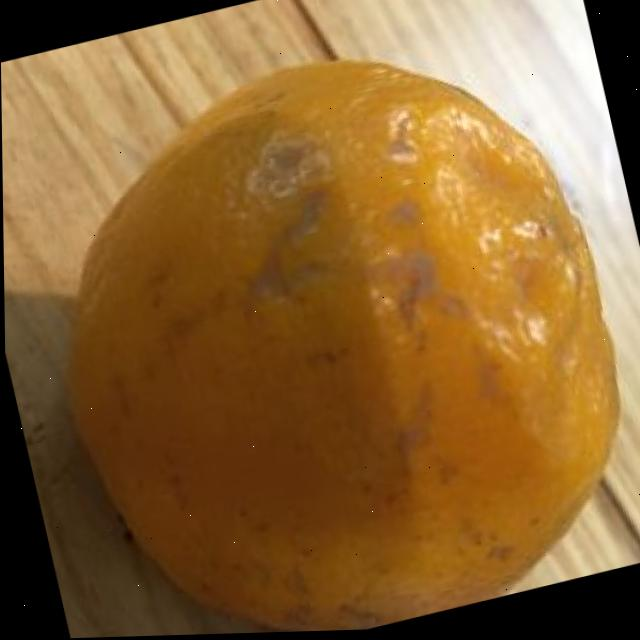Wet: (7, 0, 640, 640)
